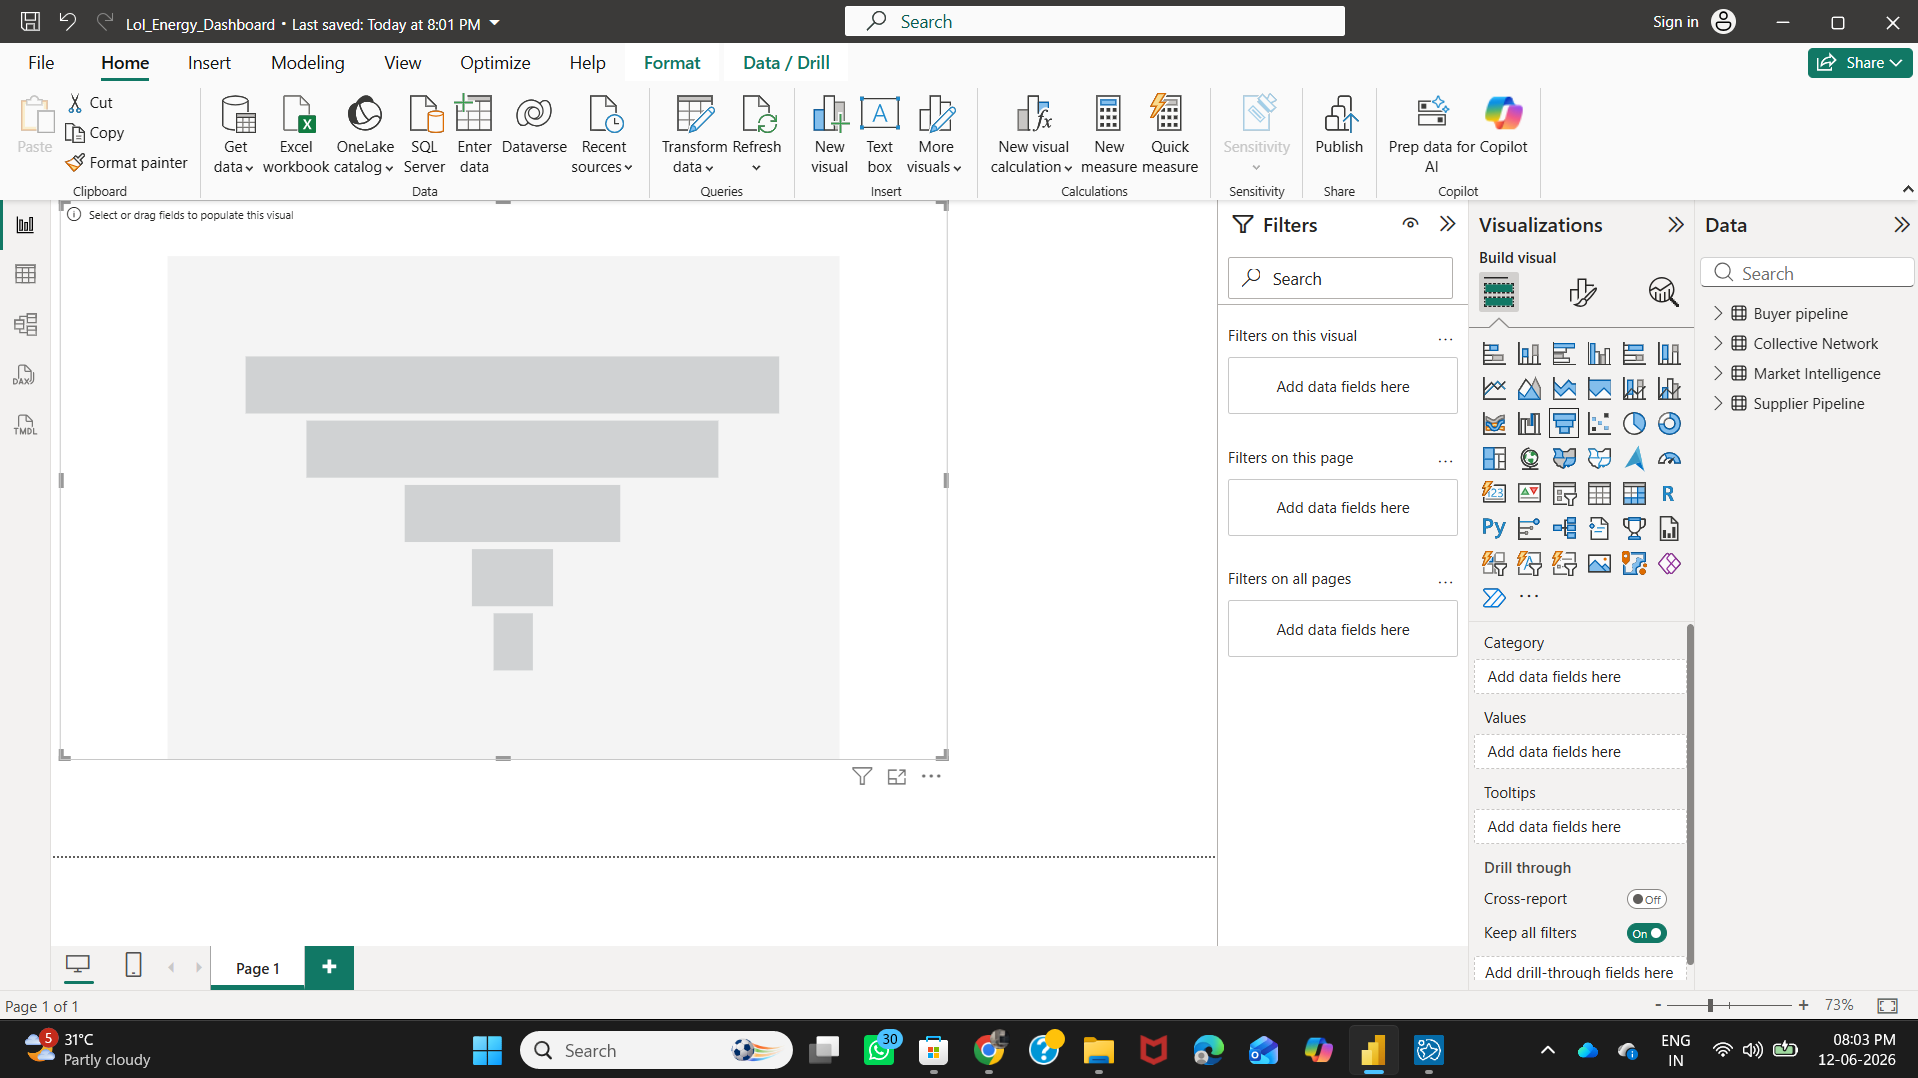

The dashboard page shown, as its layout file describes it:
{"tool":"powerbi","page":{"name":"Page 1","canvas":[1280,720],"ordinal":0},"visuals":[{"type":"funnel","title":"Supplier pipeline","fields":{"Category":["Supplier Pipeline.Stage"],"Y":["Sum(Supplier Pipeline.Count)"]},"box":[12.3,87.8,289.5,307.4],"z":0},{"type":"funnel","title":"Buyer Pipeline","fields":{"Category":["Buyer pipeline.Stage"],"Y":["Sum(Buyer pipeline.Count)"]},"box":[727.3,105.7,414.4,266.2],"z":1000},{"type":"clusteredBarChart","title":"Collection Network","fields":{"Category":["Collective Network.City"],"Y":["Sum(Collective Network.Volume)"]},"box":[72.7,419.9,415.8,300.5],"z":2000},{"type":"lineChart","title":"Market Inetlligence","fields":{"Category":["Market Intelligence.Month"],"Y":["Sum(Market Intelligence.Lithium)"],"Y2":["Sum(Market Intelligence.Nickel)","Sum(Market Intelligence.Cobalt)","Sum(Market Intelligence.Battery Scarp)"]},"box":[639.5,408.9,419.9,311.5],"z":2001},{"type":"textbox","box":[1110,12,170,360],"z":2002},{"type":"textbox","box":[249.7,0,594.2,49.4],"z":2003},{"type":"cardVisual","fields":{"Data":["Sum(Supplier Pipeline.Count)"],"Rows":["Supplier Pipeline.Stage"]},"box":[332.1,82.3,374.6,311.5],"z":2004}]}

Visuals, with their boxes on the page's 1280x720 design canvas (x1, y1, x2, y2). These are canvas units, not pixel positions in the 1918x1078 screenshot, which may show the page scaled, cropped or inside an application window:
"Supplier pipeline" funnel: [12,88,302,395]
"Buyer Pipeline" funnel: [727,106,1142,372]
"Collection Network" clusteredBarChart: [73,420,488,720]
"Market Inetlligence" lineChart: [640,409,1059,720]
textbox: [1110,12,1280,372]
textbox: [250,0,844,49]
cardVisual - Sum(Supplier Pipeline.Count) x Supplier Pipeline.Stage: [332,82,707,394]
